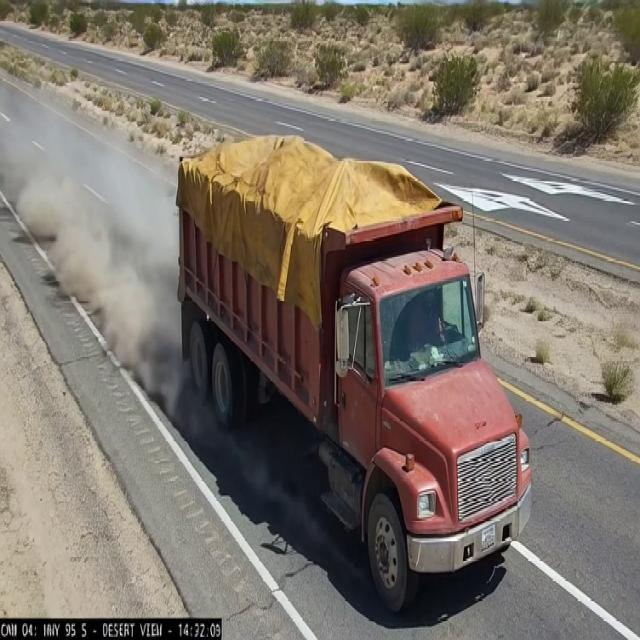Box: (163, 129, 482, 238)
Truck: (155, 123, 534, 595)
